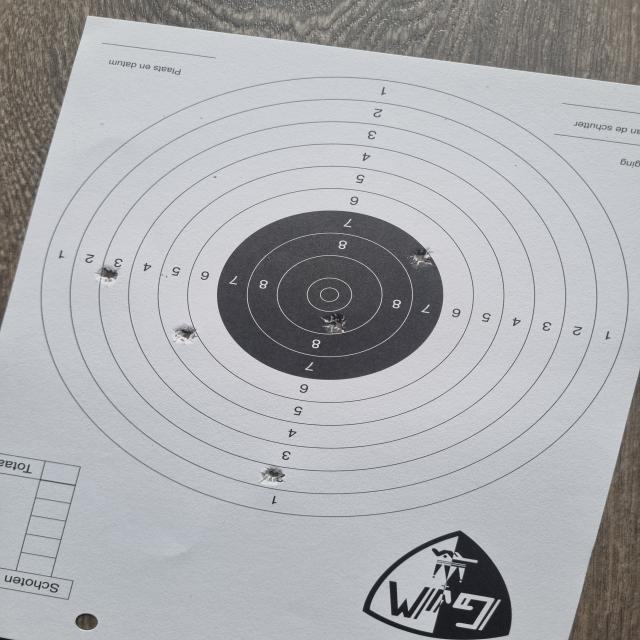2: (257, 466, 284, 485)
3: (94, 266, 120, 283)
5: (172, 325, 197, 345)
7: (408, 248, 434, 270)
9: (319, 313, 347, 334)
Target: (37, 74, 632, 517)
black_contour: (218, 208, 442, 382)
